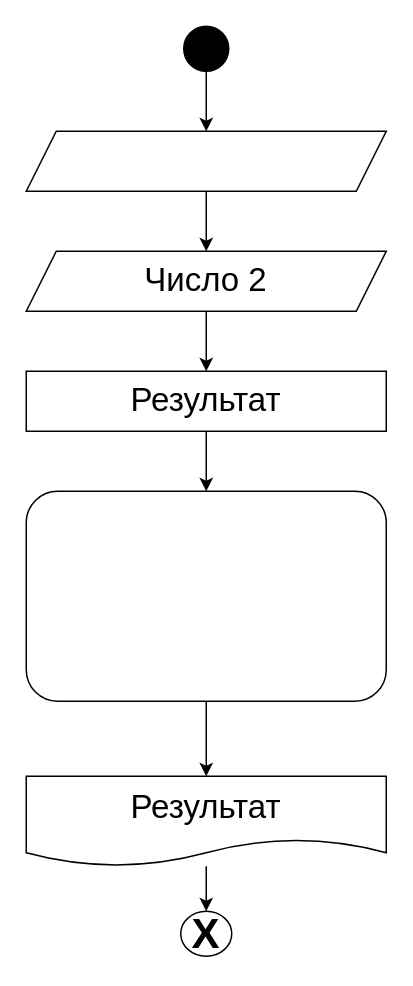
Some shapes in this 413 by 986 pixel diagram are drawn without their labels. The centre of each missing label's shape, as x and y in pixels:
"Число 1" goes at (x=205, y=160).
"Число 1 УМНОЖИТЬ НА Число 2 ПРИСВОИТЬ Результат" goes at (x=205, y=595).
